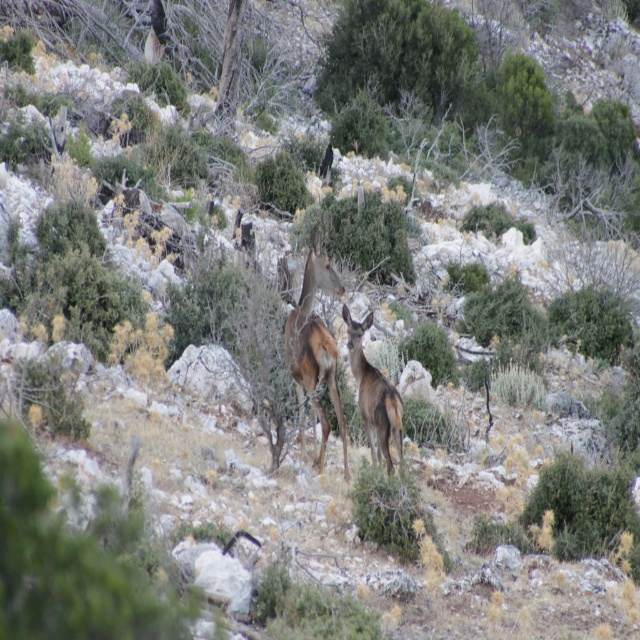Deer: (282, 229, 347, 477), (344, 303, 405, 484)
